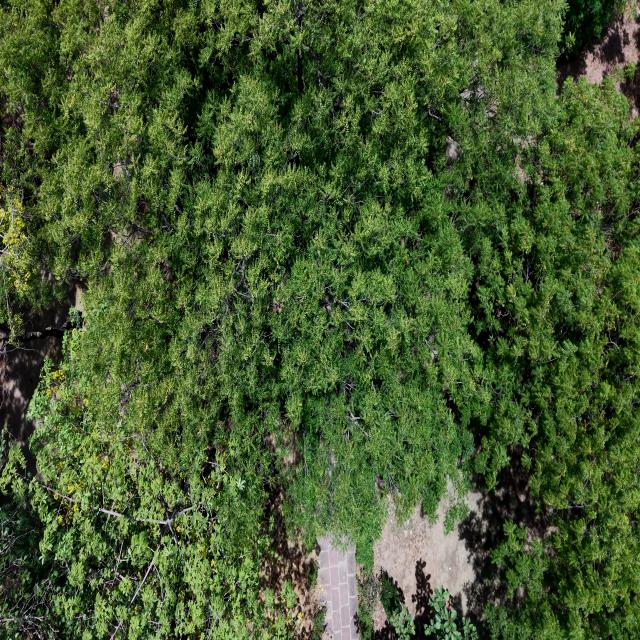DRY_AREA: (373, 446, 551, 629), (373, 446, 551, 628), (373, 447, 550, 630), (373, 448, 550, 627), (374, 448, 550, 627), (374, 450, 547, 623), (456, 445, 551, 620), (260, 481, 358, 639), (259, 484, 358, 639), (0, 282, 80, 471), (259, 487, 358, 639), (260, 489, 358, 639), (260, 490, 358, 639), (0, 284, 78, 471), (261, 506, 358, 639), (373, 502, 474, 619), (374, 501, 474, 619), (0, 305, 63, 470), (557, 2, 639, 116), (259, 485, 316, 639), (558, 3, 639, 83), (616, 62, 639, 117)
PATHWAYS: (317, 538, 358, 639)
VEGETATION_TREE: (0, 0, 639, 637), (485, 82, 639, 639), (0, 357, 301, 639), (0, 445, 301, 639), (358, 573, 414, 639), (562, 0, 622, 51), (423, 587, 476, 639), (424, 587, 476, 639), (357, 573, 379, 639)
